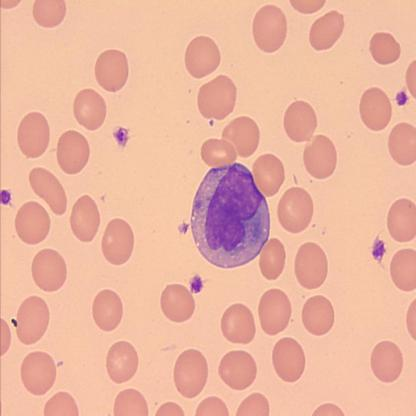Monocyte: (188, 160, 272, 270)
